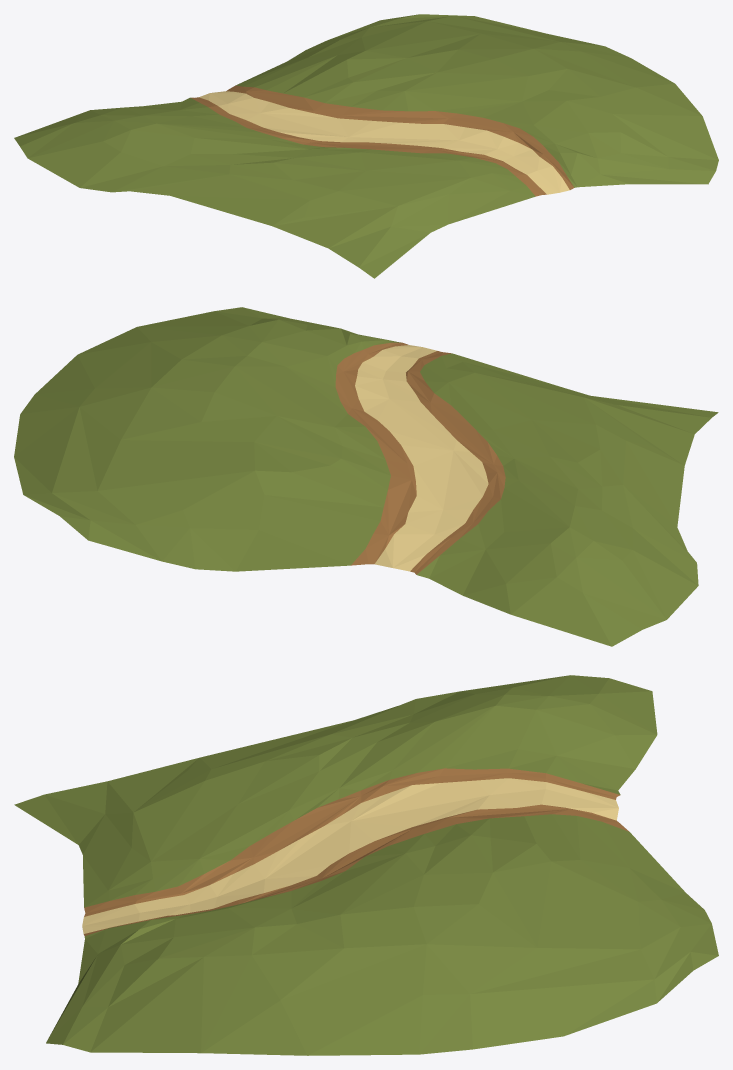
File: Terrain_Road_STurn-02.FBX
3 views of the same model, one above another, from view 1: azimuth 30°, elevation 25°; view 2: azimuth 150°, elevation 25°; view 3: azimuth 270°, elevation 25° (orthographic). The views are drawn at different scales.
Parts seen in each view (by area): view 1: Terrain_Road_STurn-02; view 2: Terrain_Road_STurn-02; view 3: Terrain_Road_STurn-02.
Part boxes in pixels (box(x1,y1,x2,y2)): Terrain_Road_STurn-02: box(14, 14, 718, 278); Terrain_Road_STurn-02: box(14, 307, 718, 646); Terrain_Road_STurn-02: box(14, 675, 718, 1055).
Bounding box in the file's own units: 4964 × 467 × 3797.
1 material, 1 textured.
